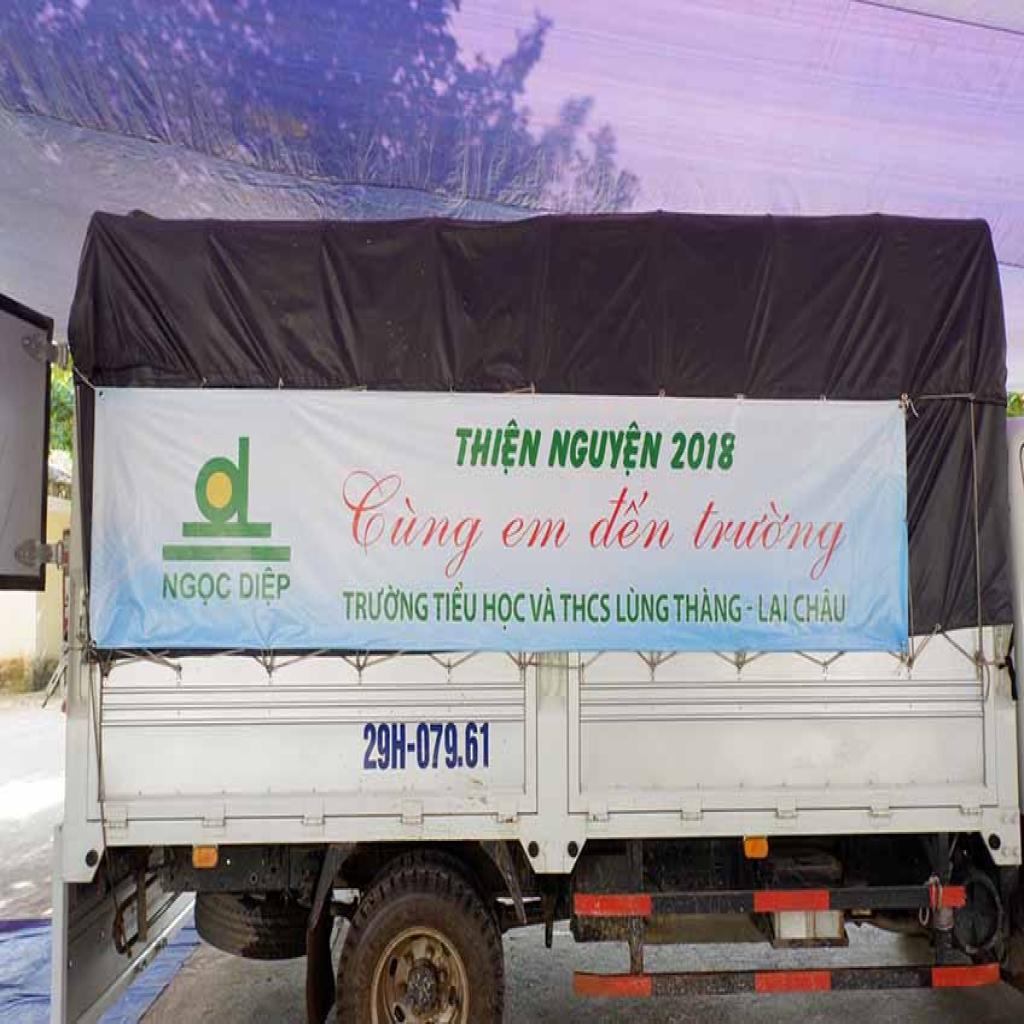text: (341, 468, 490, 582), (686, 496, 850, 582), (548, 418, 668, 478), (587, 480, 681, 551), (454, 414, 545, 478), (338, 582, 430, 625), (669, 583, 744, 629), (499, 513, 577, 553), (668, 430, 739, 473), (162, 571, 233, 611), (360, 721, 410, 772), (237, 565, 291, 611), (615, 582, 670, 625), (792, 586, 850, 626), (431, 578, 479, 625), (480, 591, 526, 634), (560, 591, 612, 627), (528, 584, 559, 625), (756, 591, 791, 627)
